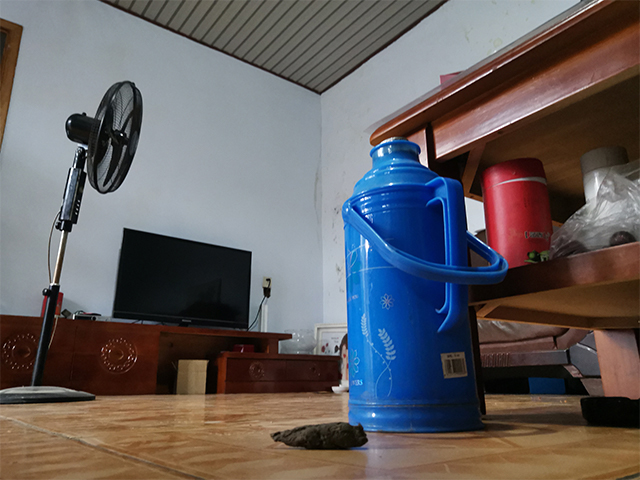cabinet: (1, 311, 344, 397)
feces: (269, 419, 368, 452)
table: (371, 1, 640, 429)
